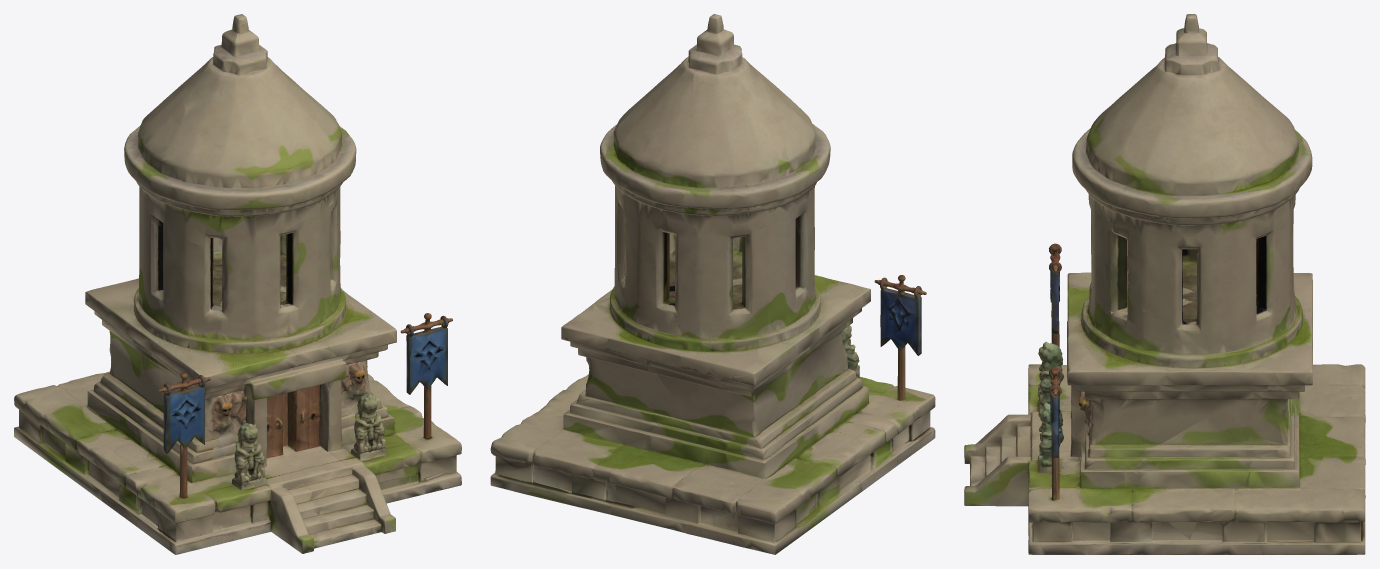
File: archer_tower_mobile.glb
3 renders of one model, left to right at view 1: azimuth 30°, elevation 25°; view 2: azimuth 150°, elevation 25°; view 3: azimuth 270°, elevation 25°, orthographic. The views are drawn at different scales.
Visible parts, largest first — view 1: Mesh_0; view 2: Mesh_0; view 3: Mesh_0.
Part boxes in pixels (box(x1,y1,x2,y2)): Mesh_0: box(14, 14, 461, 554); Mesh_0: box(490, 14, 935, 554); Mesh_0: box(964, 14, 1365, 554).
Size of the model in its own units: 1.31 by 1.9 by 1.48.
1 material, 1 textured.
